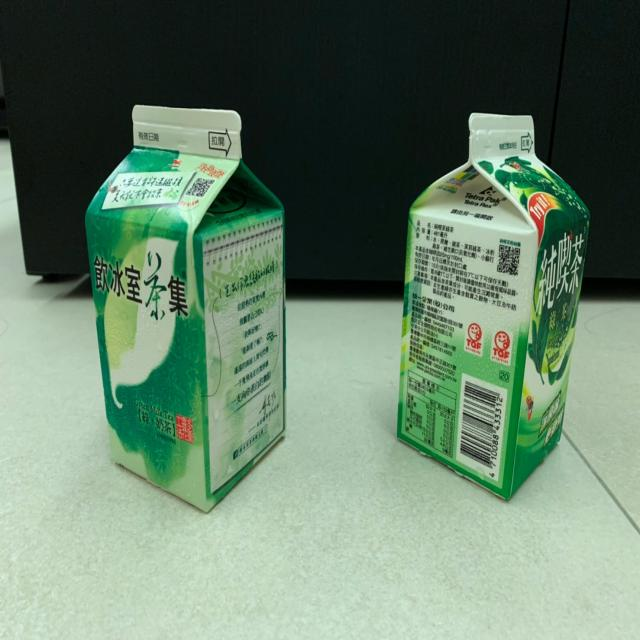non_white_jug: (74, 96, 299, 522), (382, 100, 598, 508)
